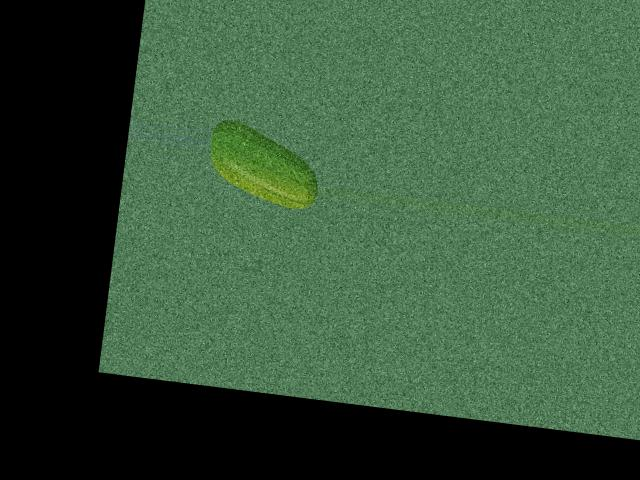cucumber: (204, 117, 324, 210)
